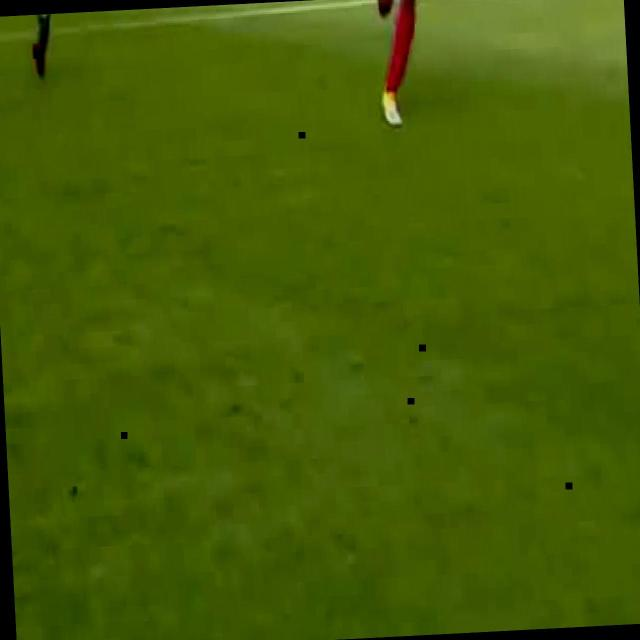player-white: (360, 0, 464, 128), (2, 12, 79, 78)
